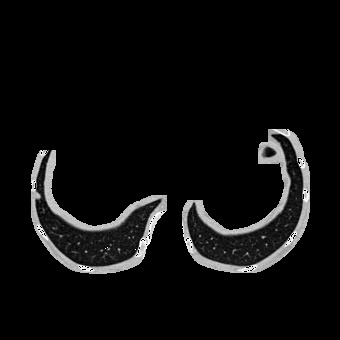PN: (33, 192, 41, 200)
